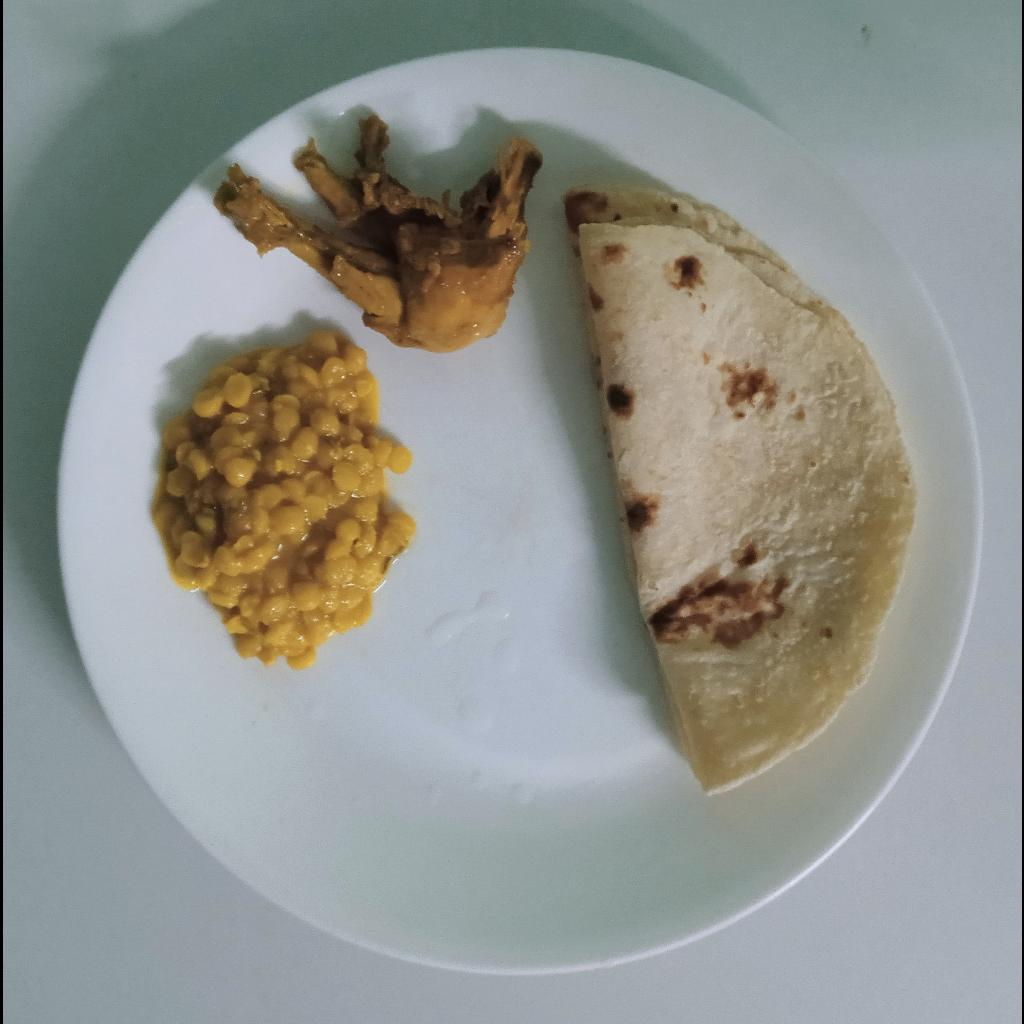chicken: (213, 114, 541, 353)
daal: (154, 332, 417, 668)
ruti: (561, 183, 919, 795)
